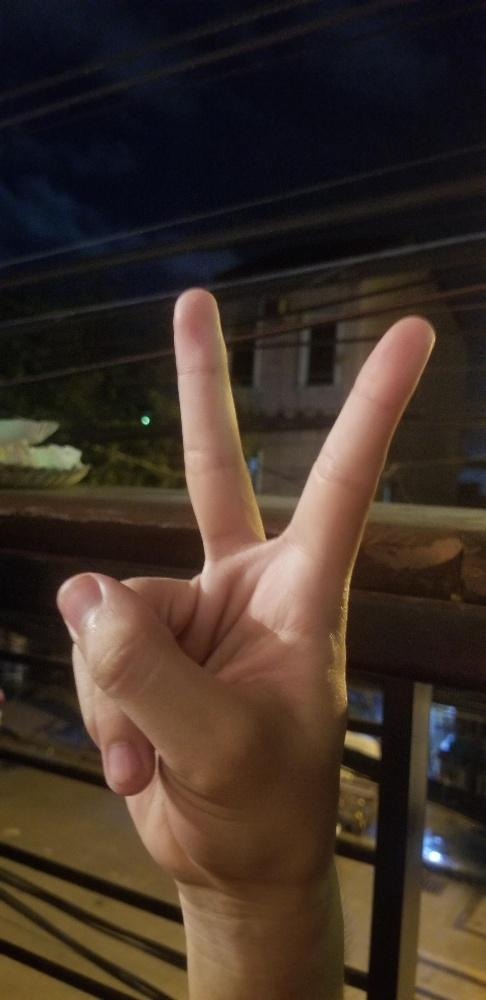v: (50, 281, 443, 885)
